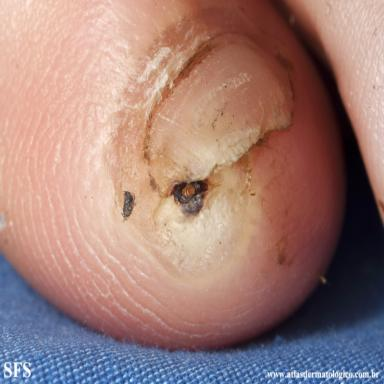Tungiasis: (152, 164, 253, 283)
